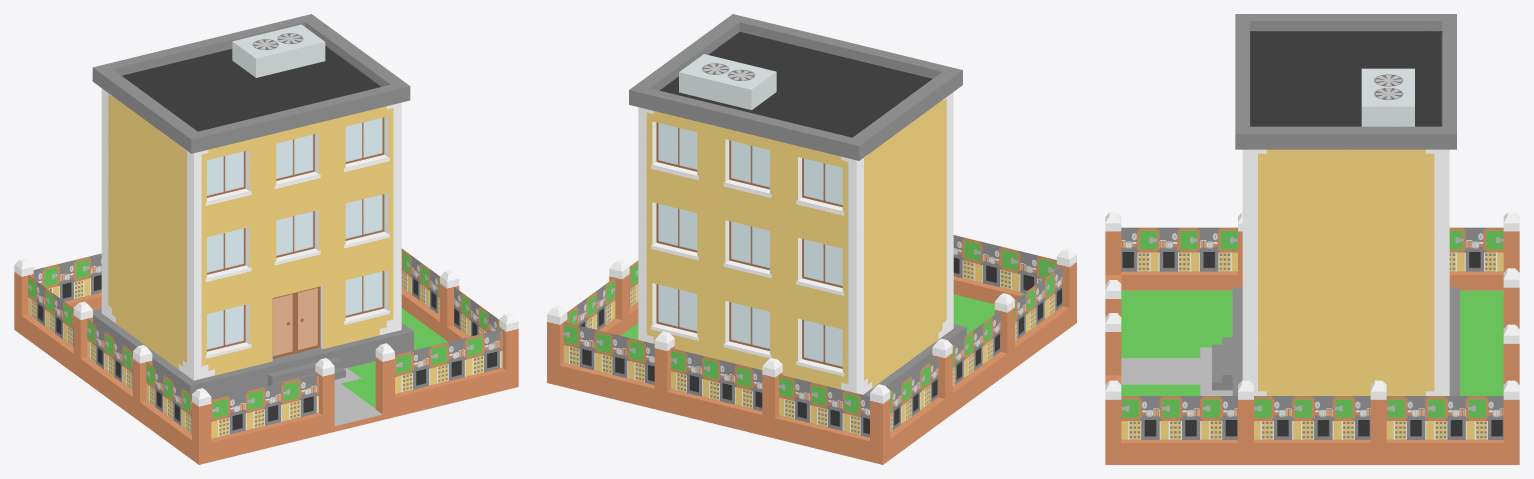
File: Building3.glb
The picture shows the model from 3 angles, left to right: view 1: azimuth 30°, elevation 25°; view 2: azimuth 150°, elevation 25°; view 3: azimuth 270°, elevation 25°; orthographic projection. The views are drawn at different scales.
Parts seen in each view (by area): view 1: Box053, Plane001, Object001; view 2: Box053, Plane001, Object001; view 3: Box053, Plane001, Object001.
Boxes of the visible parts, x1=… form: Box053: x1=14, y1=14, x2=518, y2=464; Plane001: x1=28, y1=248, x2=502, y2=438; Object001: x1=14, y1=258, x2=518, y2=445; Box053: x1=547, y1=14, x2=1076, y2=464; Plane001: x1=563, y1=235, x2=1062, y2=437; Object001: x1=547, y1=247, x2=1076, y2=444; Box053: x1=1105, y1=14, x2=1519, y2=464; Plane001: x1=1121, y1=227, x2=1503, y2=439; Object001: x1=1105, y1=212, x2=1519, y2=442.
Size of the model in its own units: 6 by 5.04 by 6.
Materials: 1 (1 with a texture image).
